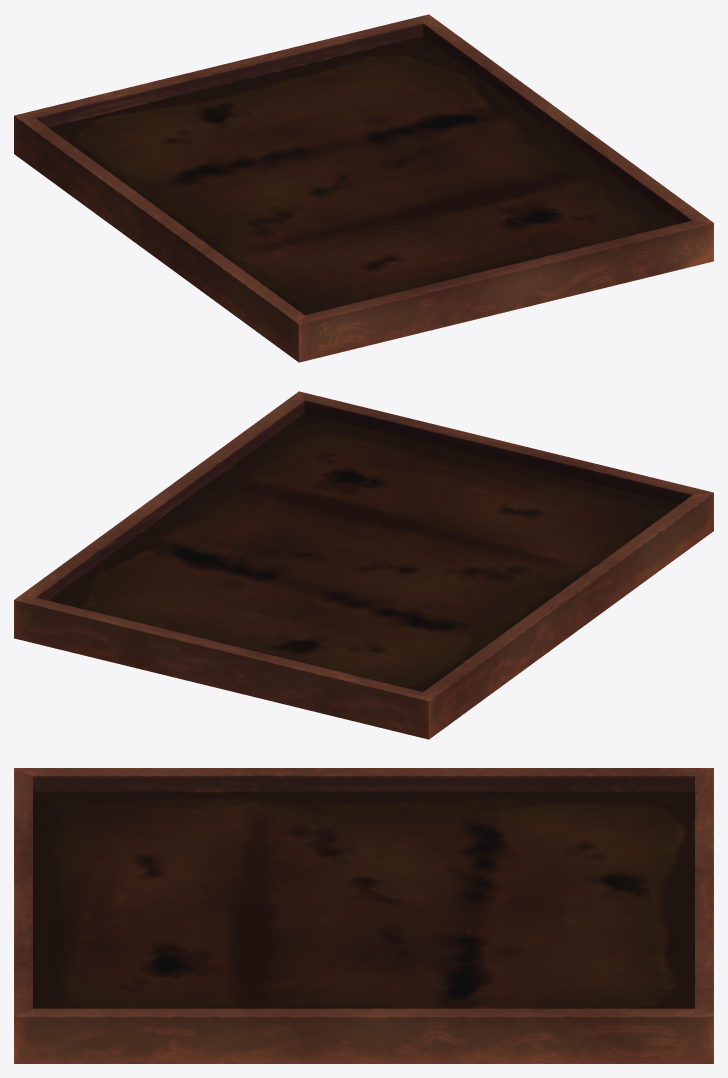
The model's file is CropBox.fbx.
The picture shows the model from 3 angles, top to bottom: view 1: azimuth 30°, elevation 25°; view 2: azimuth 150°, elevation 25°; view 3: azimuth 270°, elevation 25°; orthographic projection. The views are drawn at different scales.
Visible parts, largest first — view 1: CropBox; view 2: CropBox; view 3: CropBox.
Part boxes in pixels (bbox=[...]): CropBox: bbox=[14, 14, 713, 362]; CropBox: bbox=[14, 391, 713, 739]; CropBox: bbox=[14, 768, 713, 1063].
Bounding box in the file's own units: 152 × 13.48 × 181.
